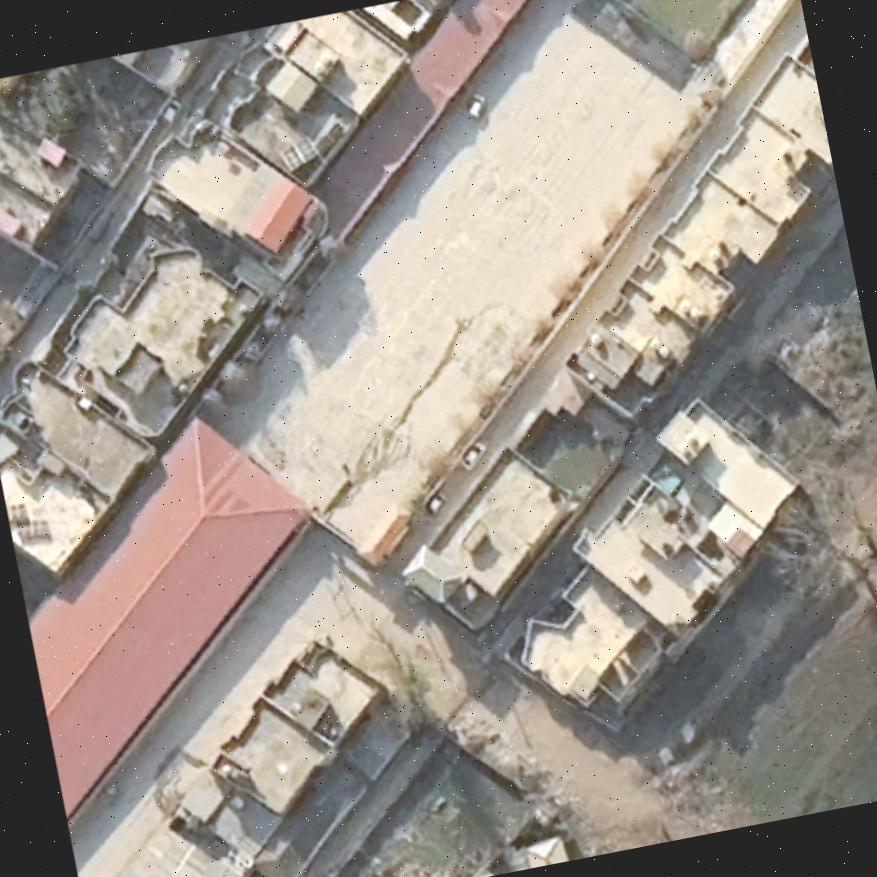Solarpanel: (7, 501, 51, 538), (283, 139, 317, 172)
